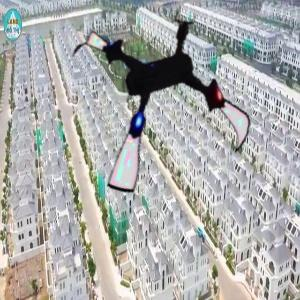drone: (58, 5, 259, 206)
